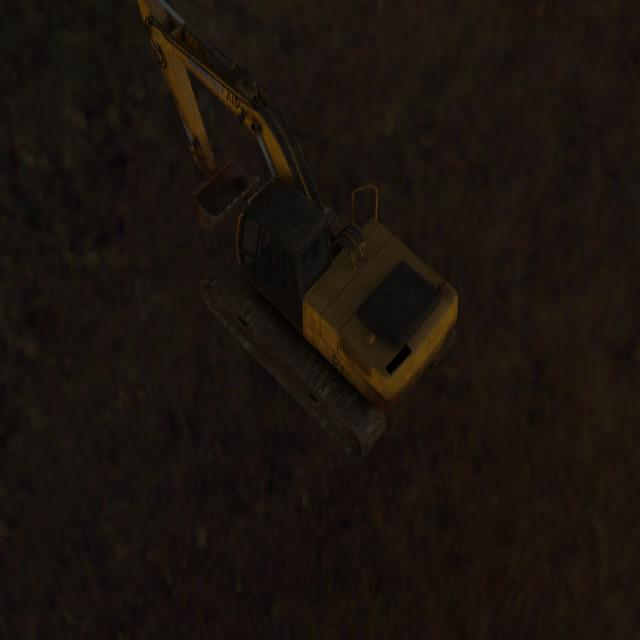excavator: (136, 0, 458, 463)
